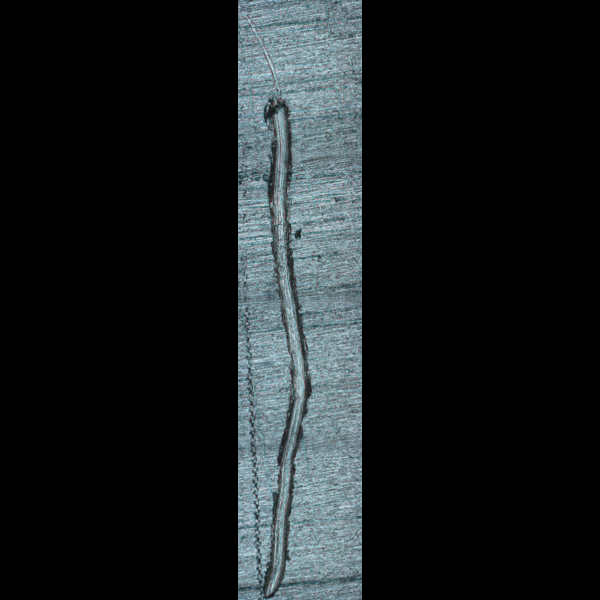d: (251, 88, 314, 599)
